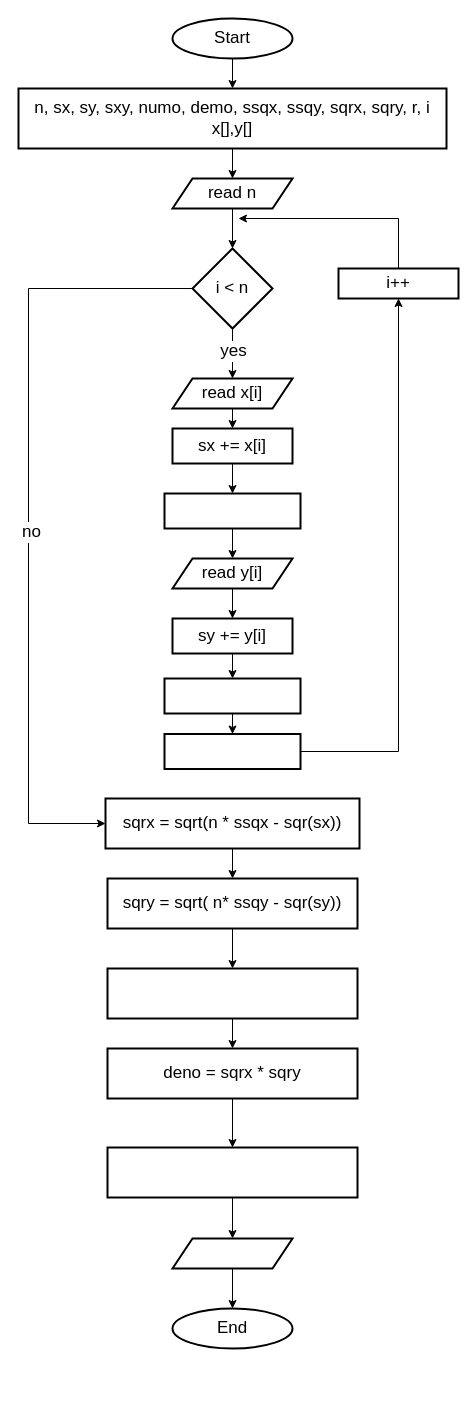
This 476x1423 diagram has some shape labels left out. The shapes that lost their labels are listed below. From the top down, each one's centre as x and y in pixels, then its label:
pixel 232 510: ssqx += sqr(x[i])
pixel 232 695: ssqy += sqr(y[i])
pixel 232 751: sxy += x[i] * y[i]
pixel 232 993: nume = n * sxy - sx * sy
pixel 232 1172: r = nume / deno
pixel 232 1253: print n
